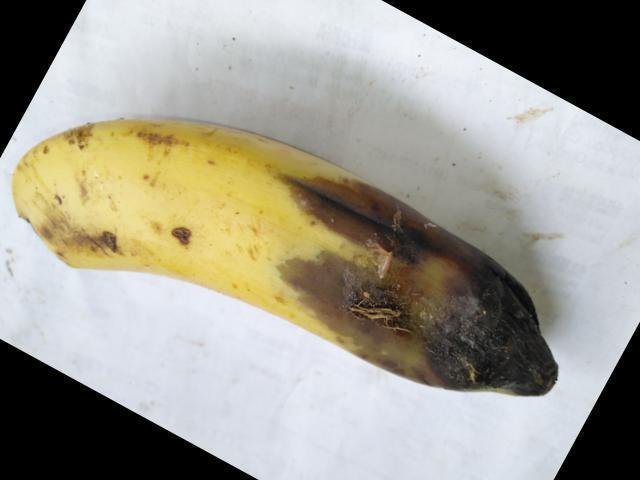rotten: (255, 150, 629, 437), (18, 185, 115, 289)
